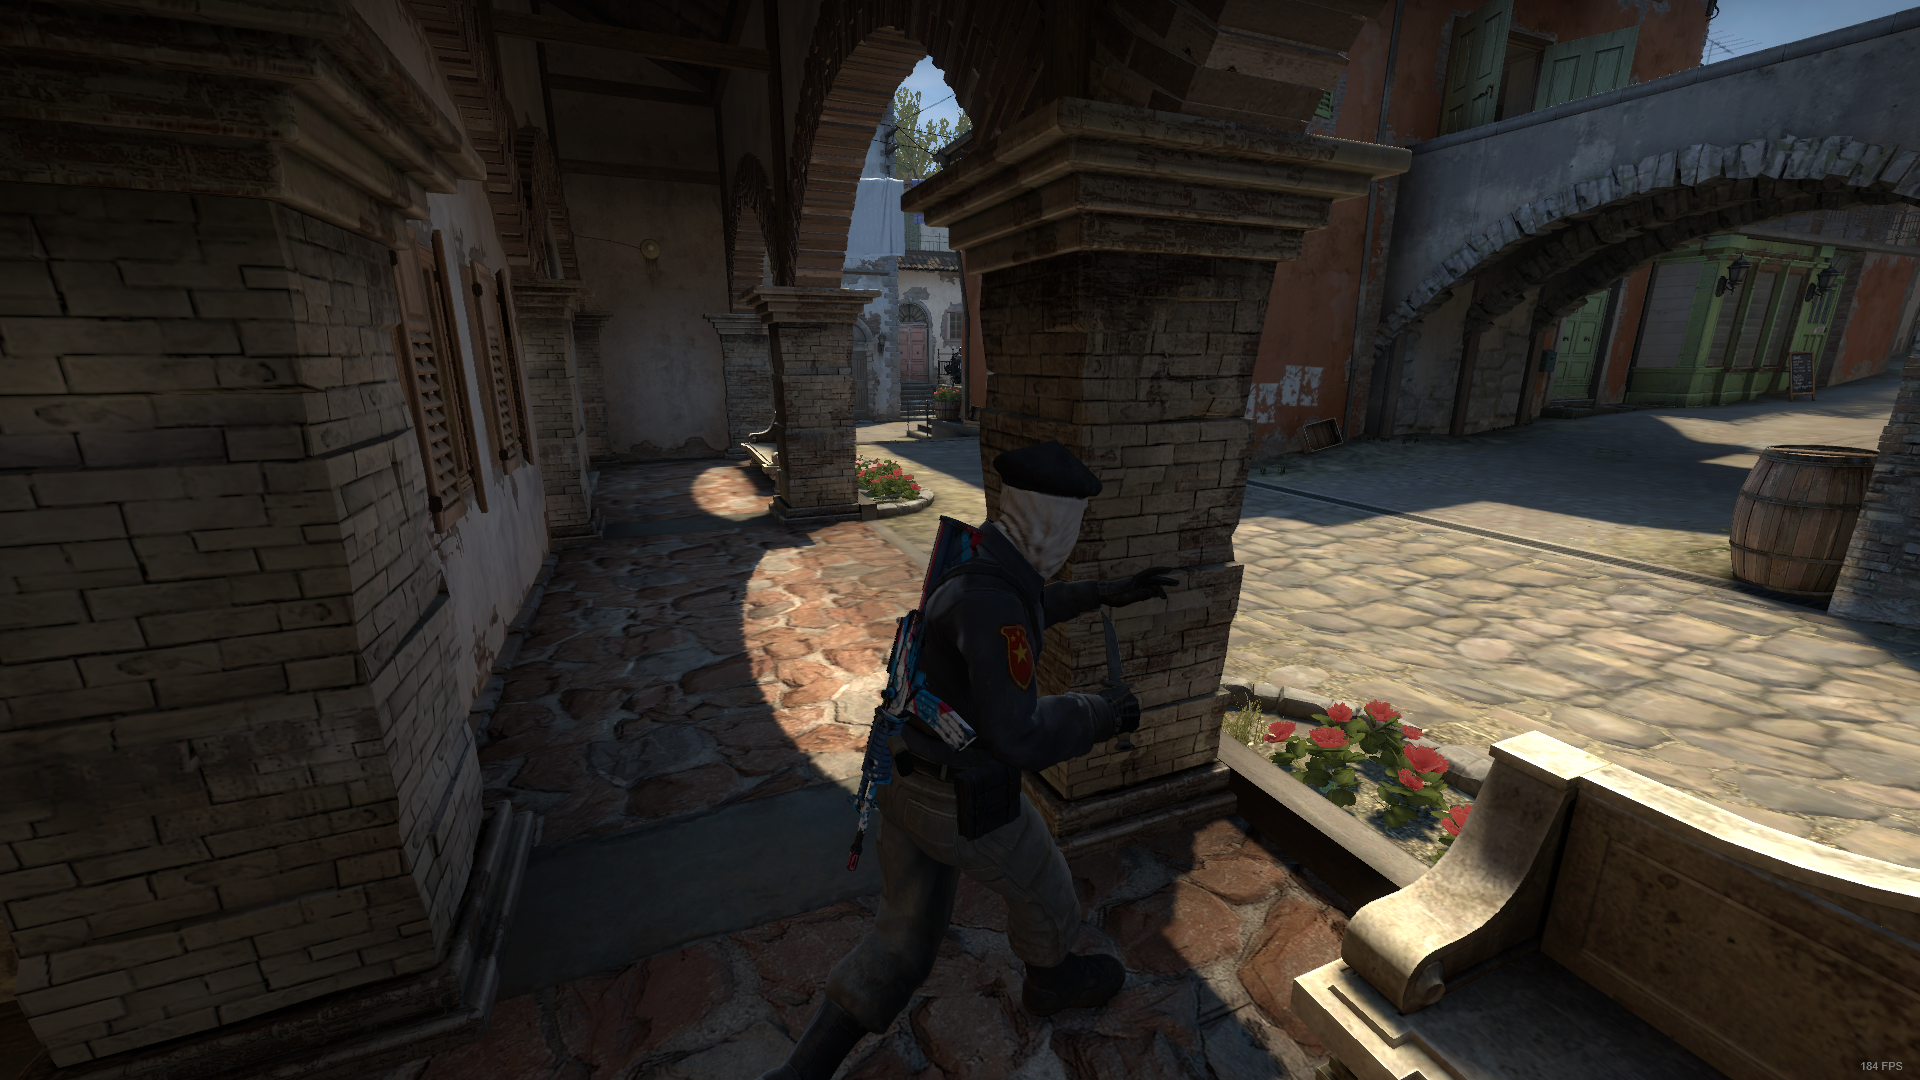t: (794, 447, 1182, 1080)
